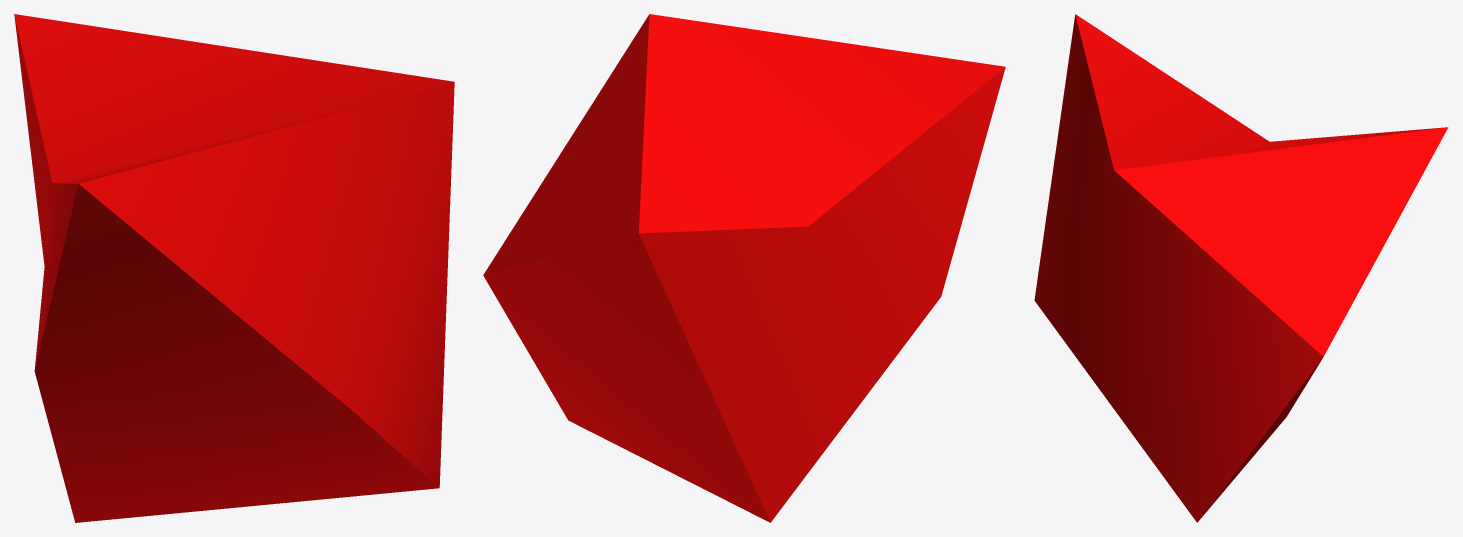
Rendered from crumb.glb.
3 views of the same model, side by side, from view 1: azimuth 30°, elevation 25°; view 2: azimuth 150°, elevation 25°; view 3: azimuth 270°, elevation 25° (orthographic). The views are drawn at different scales.
Parts seen in each view (by area): view 1: Icosphere; view 2: Icosphere; view 3: Icosphere.
Part boxes in pixels (x1,y1,x2,y2): Icosphere: [14, 14, 454, 522]; Icosphere: [483, 14, 1005, 522]; Icosphere: [1034, 14, 1448, 522].
Bounding box in the file's own units: 1.53 × 1.52 × 1.62.
